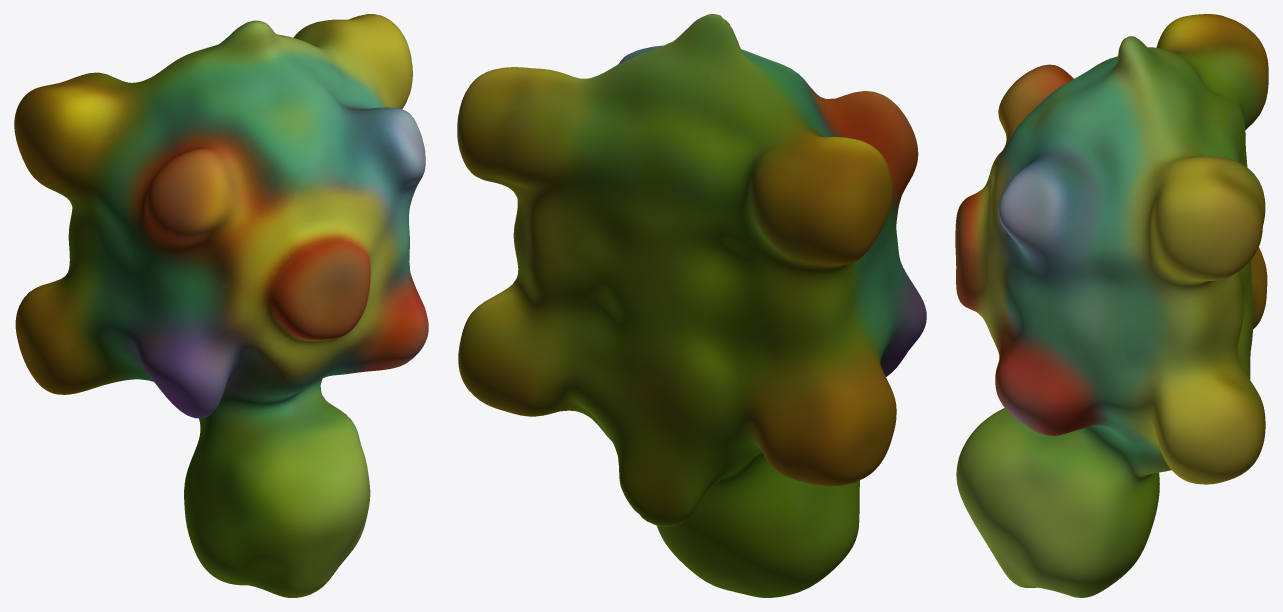
File: turtle.glb
The picture shows the model from 3 angles, left to right: view 1: azimuth 30°, elevation 25°; view 2: azimuth 150°, elevation 25°; view 3: azimuth 270°, elevation 25°; orthographic projection. The views are drawn at different scales.
Bounding box in the file's own units: 0.7256 × 0.999 × 0.5143.
